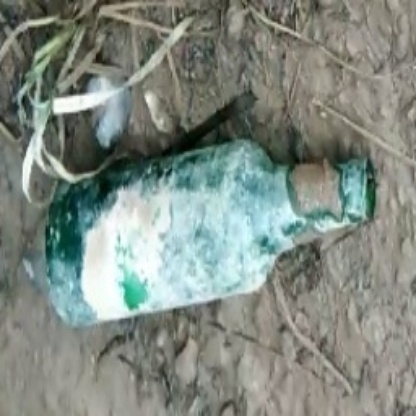bottle: (41, 141, 379, 328)
